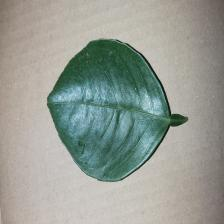healthy: (46, 35, 188, 185)
